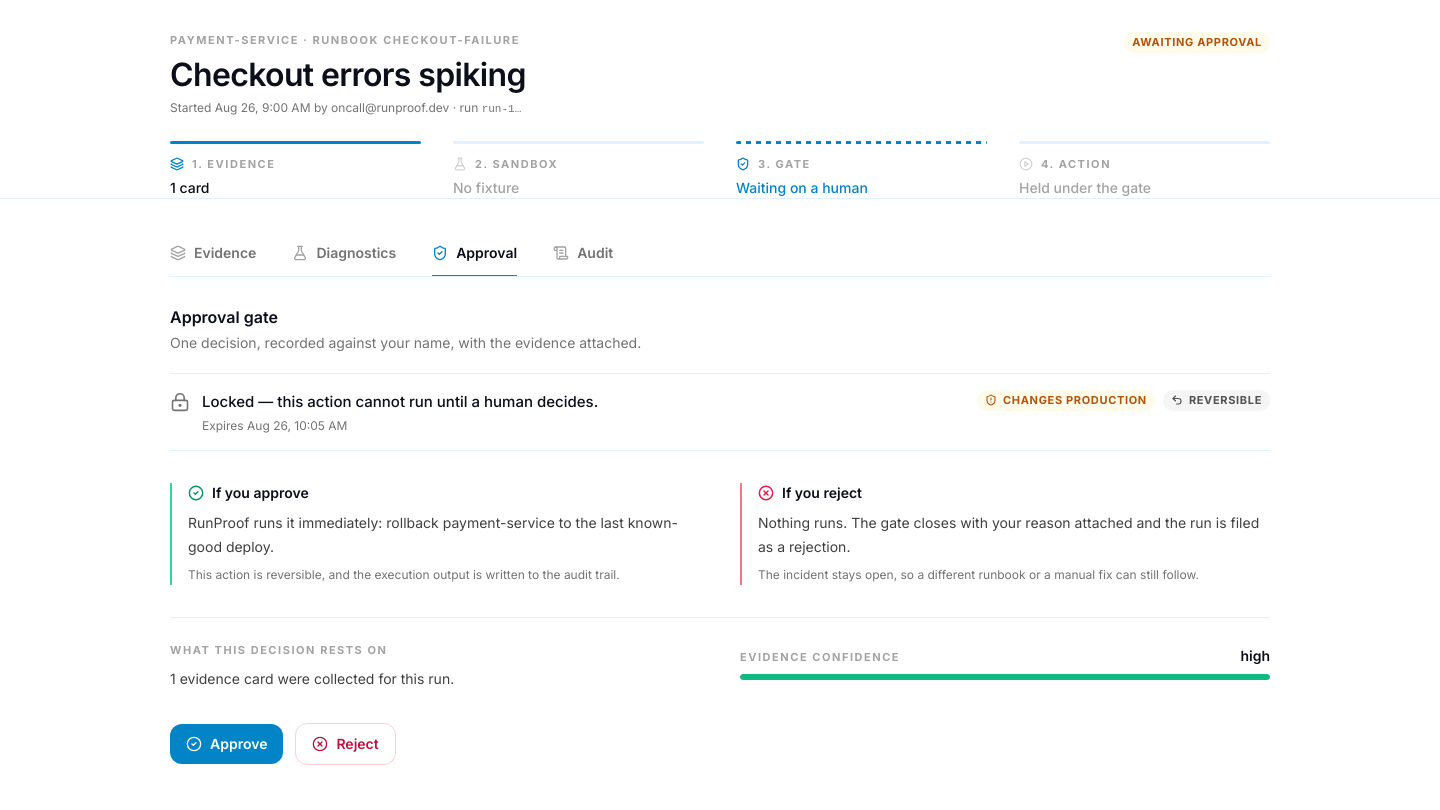
Test: RunDetailClient › Approval tab › updates the header's run state after a successful approve
The image size is (1440, 810).
Expected: the text "Awaiting approval" is shown, [1124, 32, 1270, 52]
What coordinates should you click on to do the following:
click the button "Approve"
I would click on:
 (227, 744)
Its box is [170, 724, 283, 764].
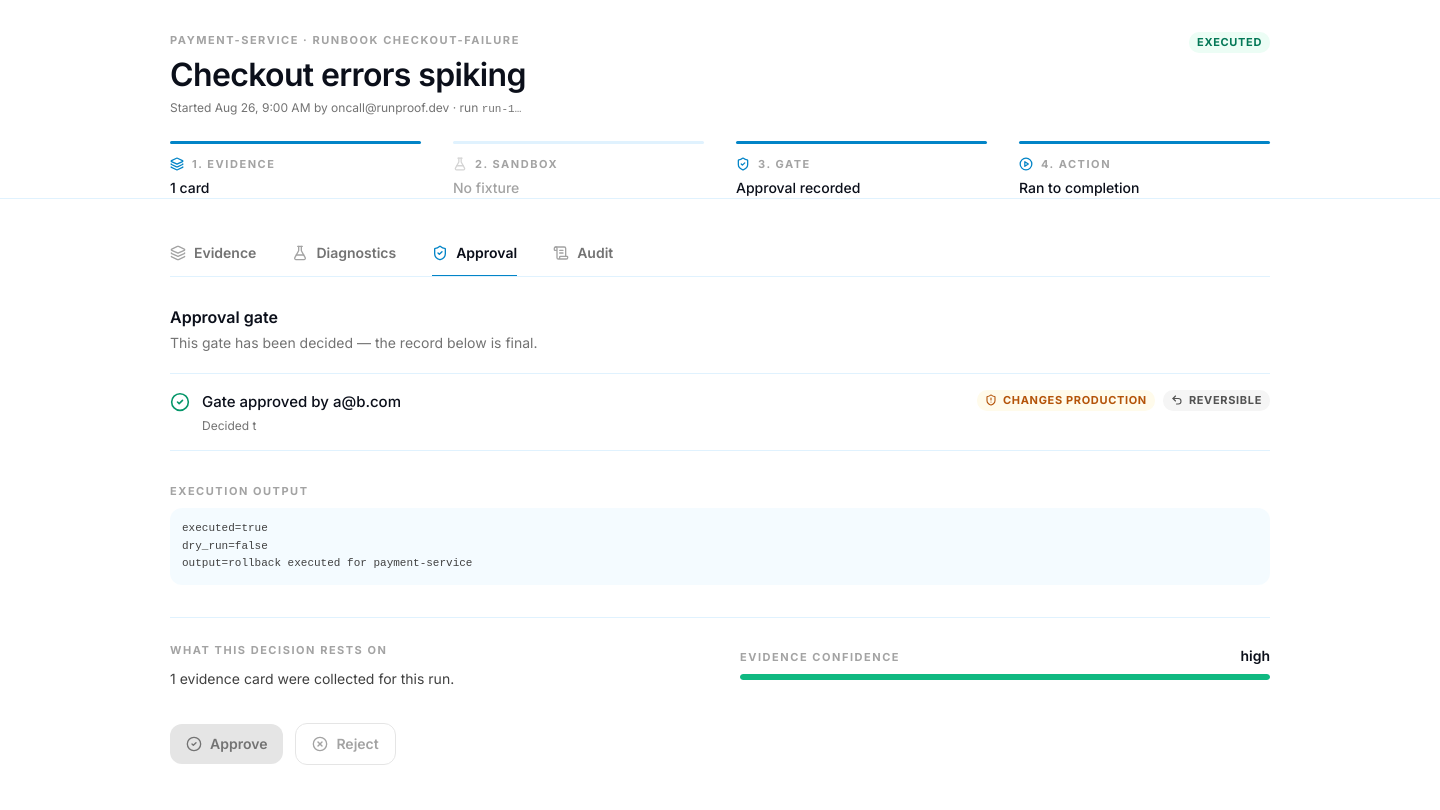
Result: the text "Executed" is shown at [1189, 32, 1270, 52]
Result: the text "Awaiting approval" is gone
